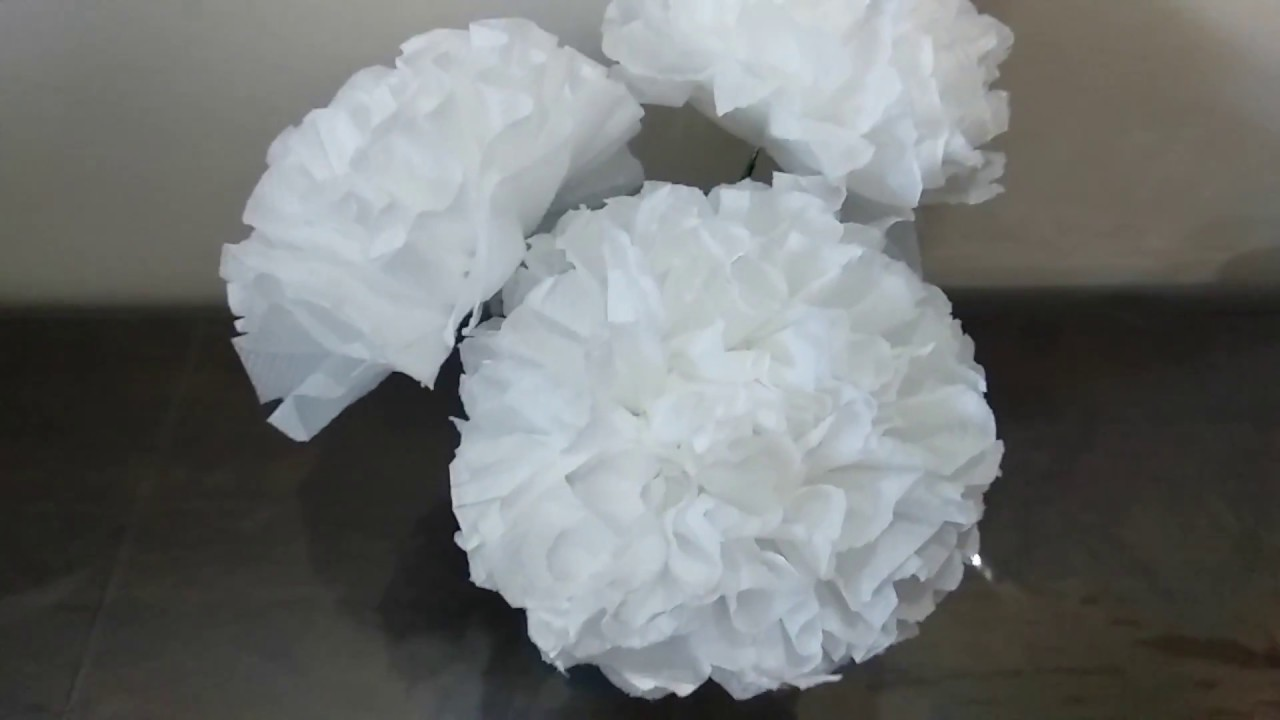Tissue: (444, 175, 1005, 709)
